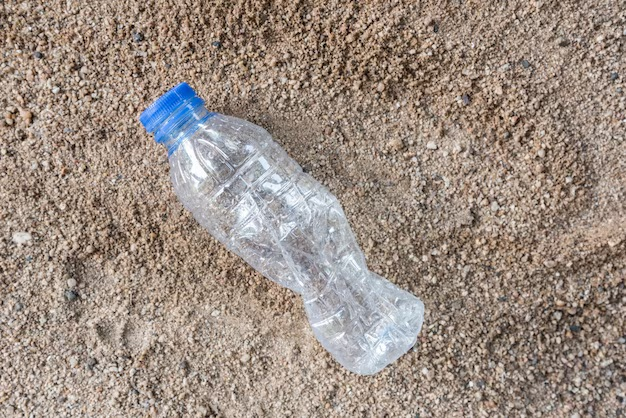plasticbottle: (135, 77, 426, 379)
